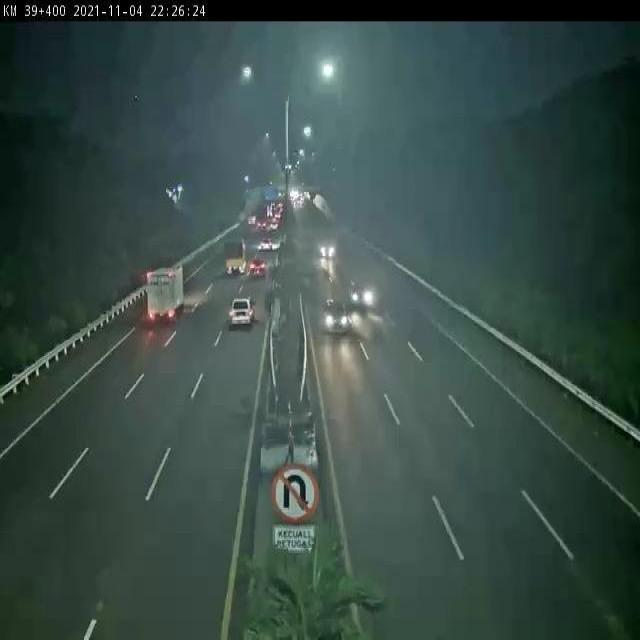car: (325, 299, 350, 336), (350, 280, 373, 312), (230, 299, 255, 324), (317, 238, 335, 258), (251, 257, 266, 276), (261, 238, 271, 250)
truck-l-: (144, 268, 185, 324)
truck-m-: (223, 240, 247, 276)
